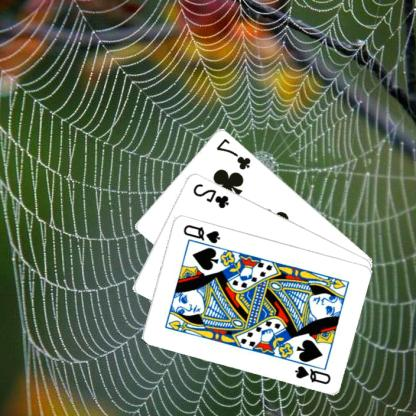2C: (192, 180, 232, 210)
7C: (216, 136, 254, 172)
QS: (182, 222, 223, 244), (294, 363, 333, 385)
